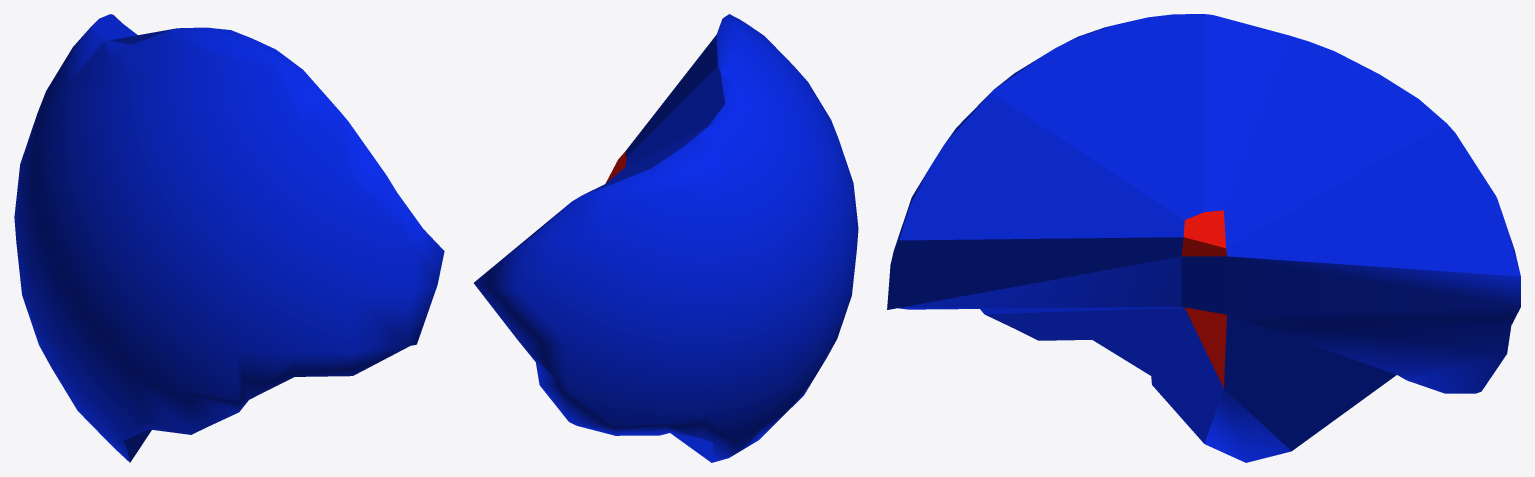
Rendered from Orbe_Square_F2.fbx.
The picture shows the model from 3 angles, left to right: view 1: azimuth 30°, elevation 25°; view 2: azimuth 150°, elevation 25°; view 3: azimuth 270°, elevation 25°; orthographic projection. The views are drawn at different scales.
Visible parts, largest first — view 1: Orbe_Square_F2; view 2: Orbe_Square_F2; view 3: Orbe_Square_F2.
Boxes of the visible parts, <box> form: Orbe_Square_F2: <box>14,14,444,462</box>; Orbe_Square_F2: <box>474,14,858,462</box>; Orbe_Square_F2: <box>887,14,1520,462</box>.
Bounding box in the file's own units: 100 × 163 × 196.
